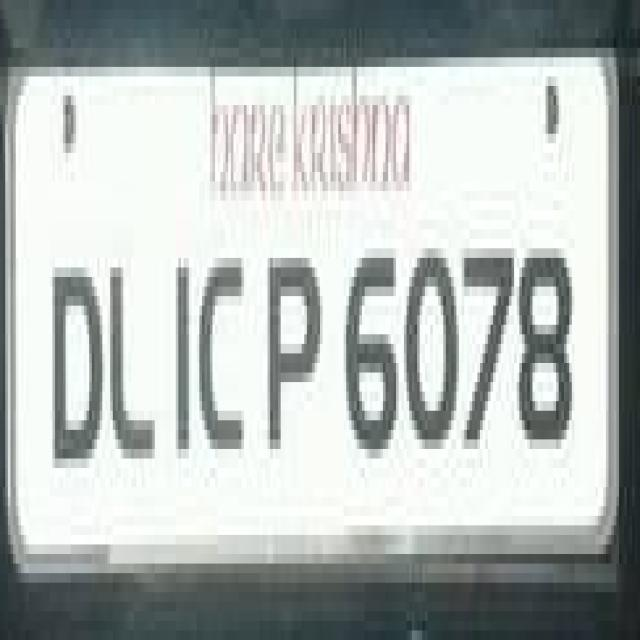license_plate: (0, 9, 609, 602)
